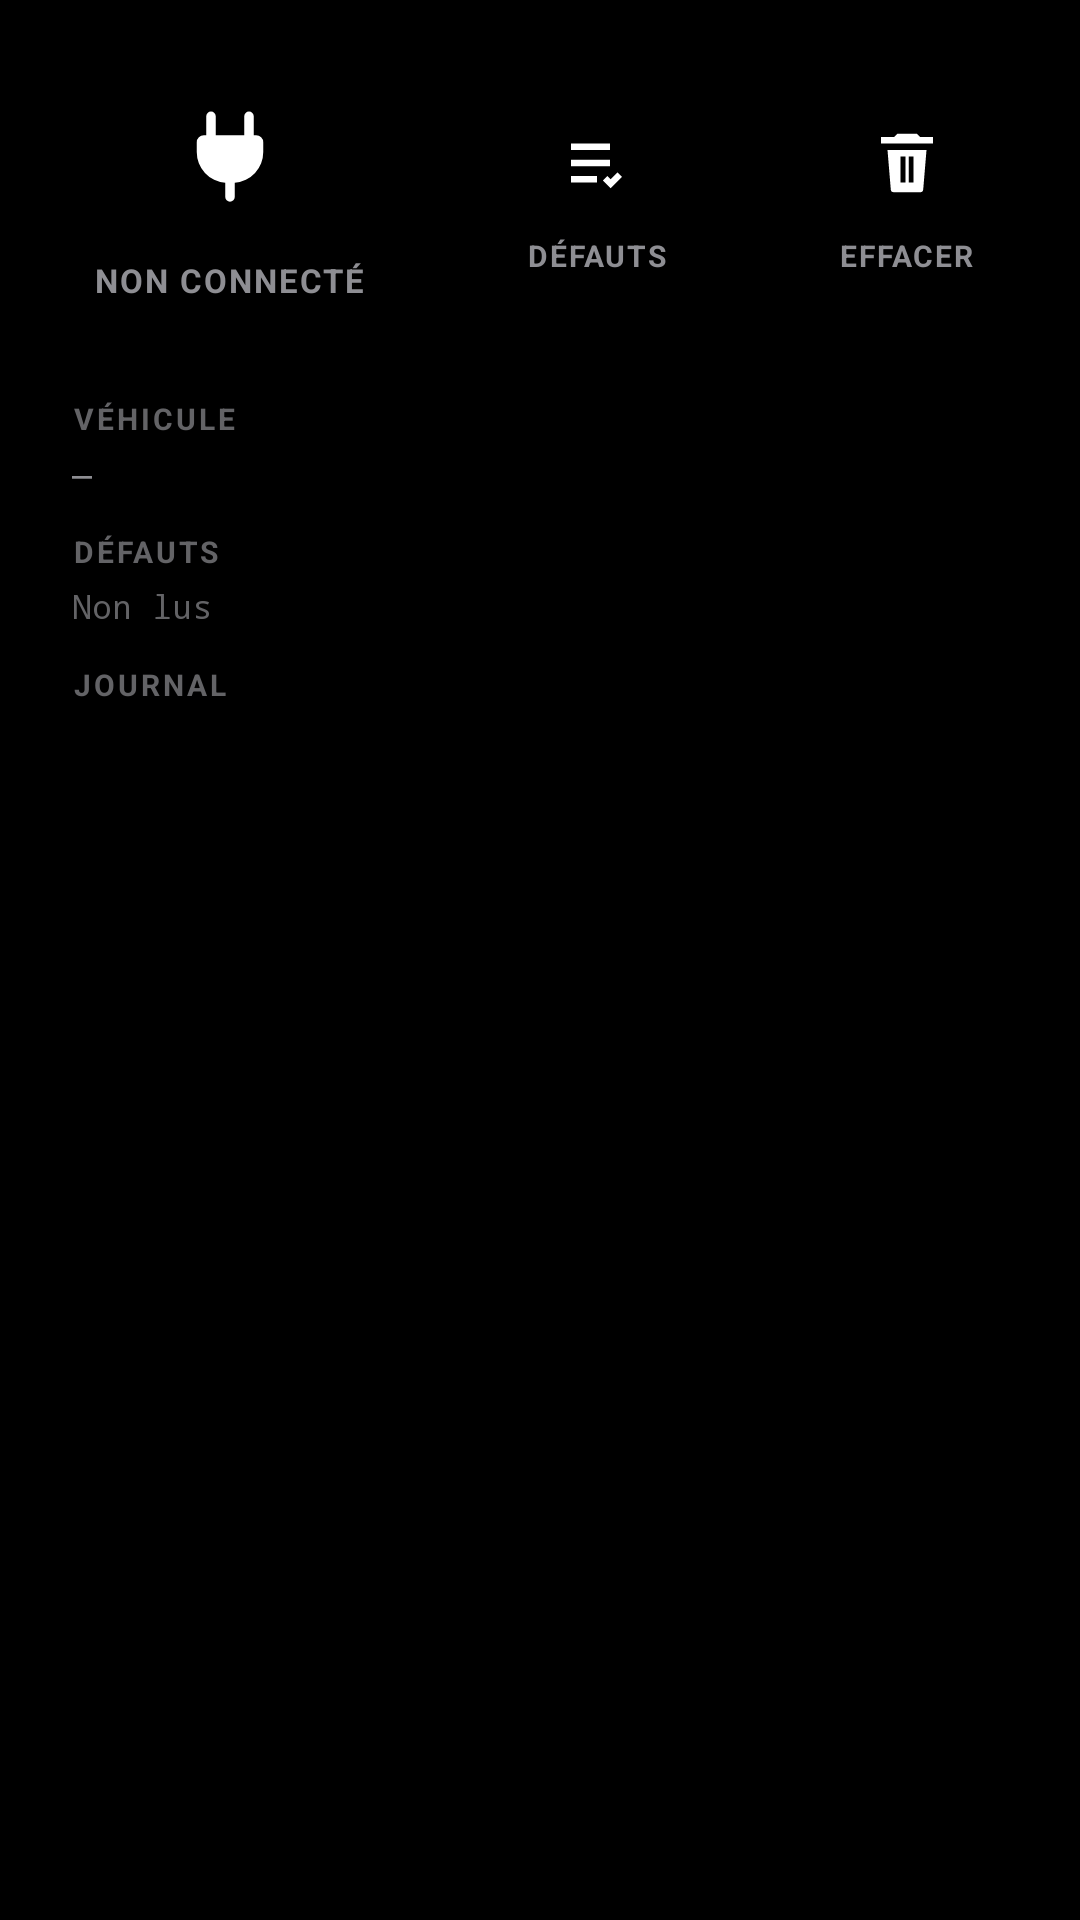

Point at icon controls on the screen. Image size 1080 × 1920, points as (x=x, y=y).
Connecter: (x=230, y=156)
